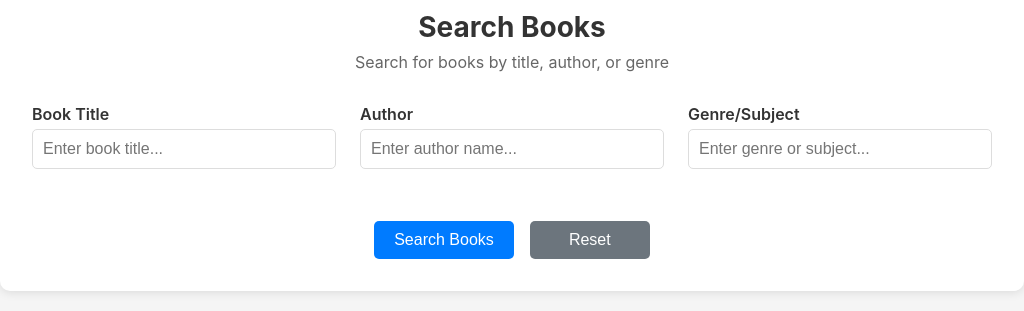
Test: SearchForm › resets form when reset button is clicked
This screenshot has width=1024, height=311.
Type "React" into the field labelled "Book Title" at (184, 149), box [32, 129, 336, 169]
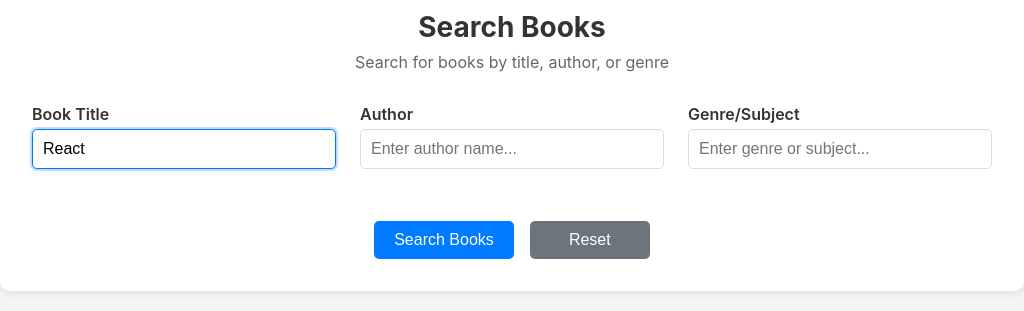
Click the button "Reset" at (590, 240), box [530, 221, 650, 259]
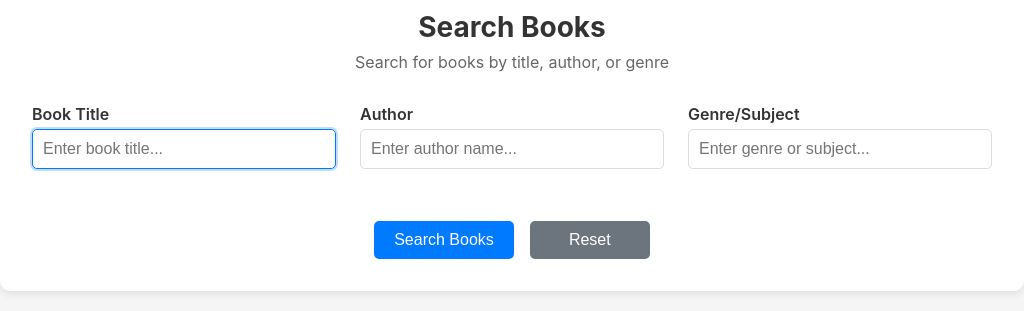
Result: the field labelled "Book Title" is empty at [32, 129, 336, 169]
